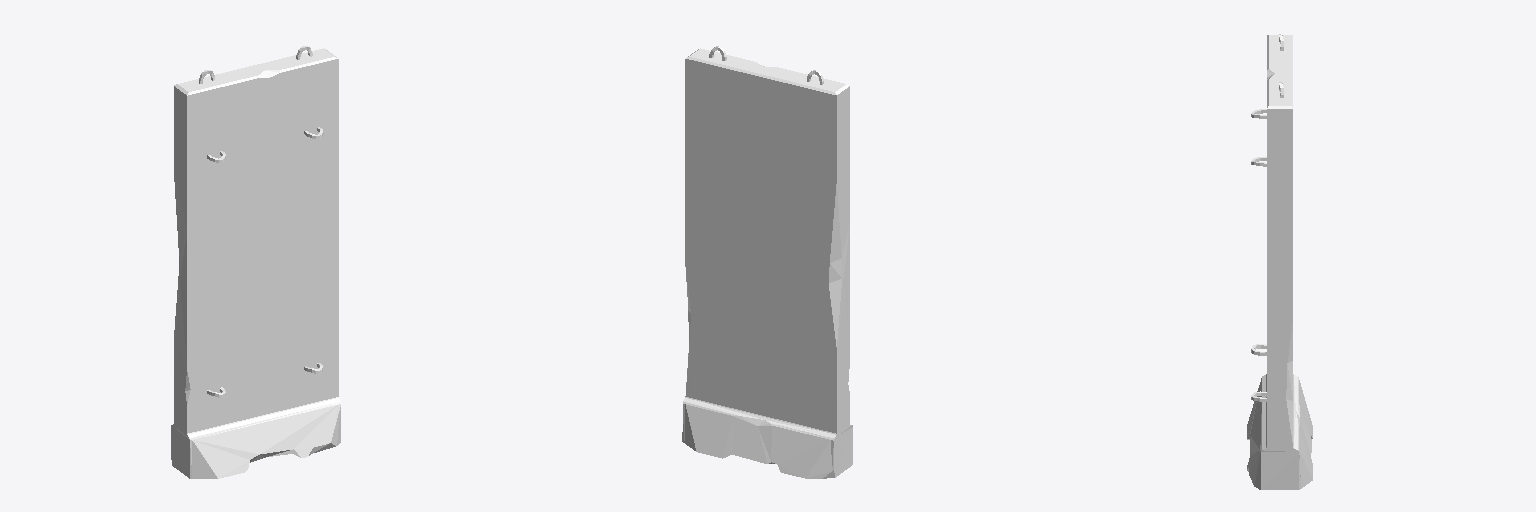
The model's file is MauerEinfach.obj.
3 renders of one model, left to right at view 1: azimuth 30°, elevation 25°; view 2: azimuth 150°, elevation 25°; view 3: azimuth 270°, elevation 25°, orthographic.
Parts seen in each view (by area): view 1: DrawCall_0; view 2: DrawCall_0; view 3: DrawCall_0.
Part boxes in pixels (x1,y1,x2,y2): DrawCall_0: (171, 46, 340, 478); DrawCall_0: (682, 46, 852, 478); DrawCall_0: (1247, 34, 1312, 489).
Bounding box in the file's own units: 0.4022 × 1 × 0.1534.